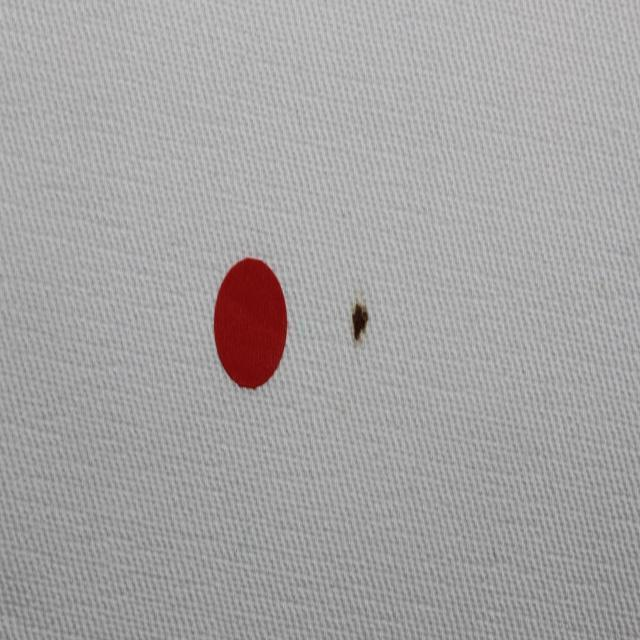stain: (210, 257, 291, 400), (347, 292, 375, 345)
